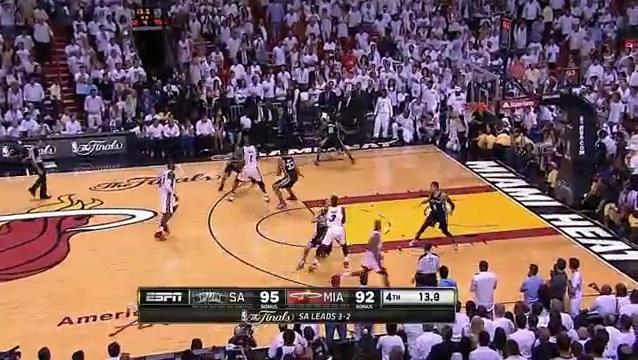Backboard: (471, 65, 501, 118)
Basket: (460, 101, 479, 122)
Person: (417, 180, 458, 250), (298, 196, 330, 276), (232, 140, 271, 203), (320, 196, 354, 268), (151, 160, 180, 241), (318, 115, 357, 167), (272, 147, 302, 210), (213, 143, 245, 200), (363, 218, 390, 285), (314, 107, 327, 130)
Referee: (27, 140, 54, 201), (412, 238, 439, 286), (453, 107, 473, 163)
Shot Clock: (499, 17, 513, 46), (561, 67, 581, 86)
